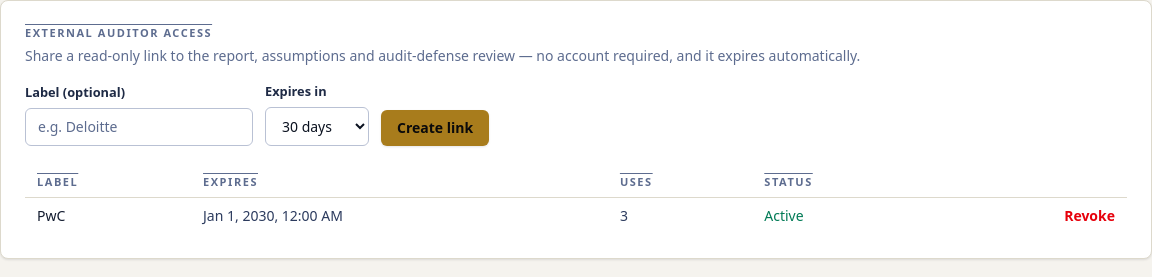
Test: AuditorAccessPanel — revoking › revokes an active link and shows it as revoked
The width and height of the screenshot is (1152, 277).
What coordinates should you click on to do the following:
click the button "Revoke"
I would click on:
 (1090, 216)
Its box is [1064,206,1115,226].
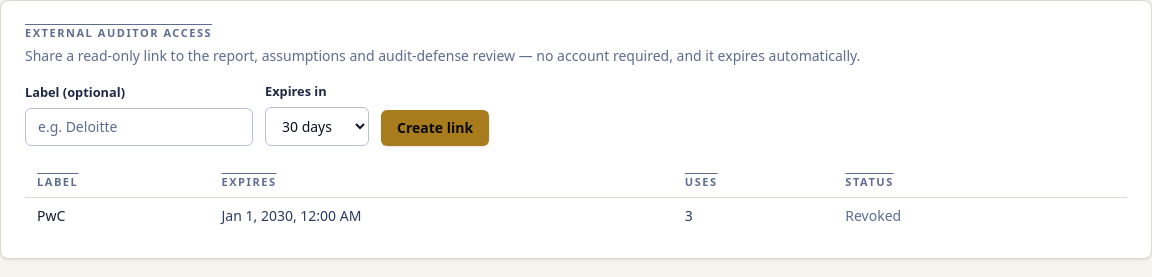
Result: the text "Revoked" is shown at [845,206,901,225]
